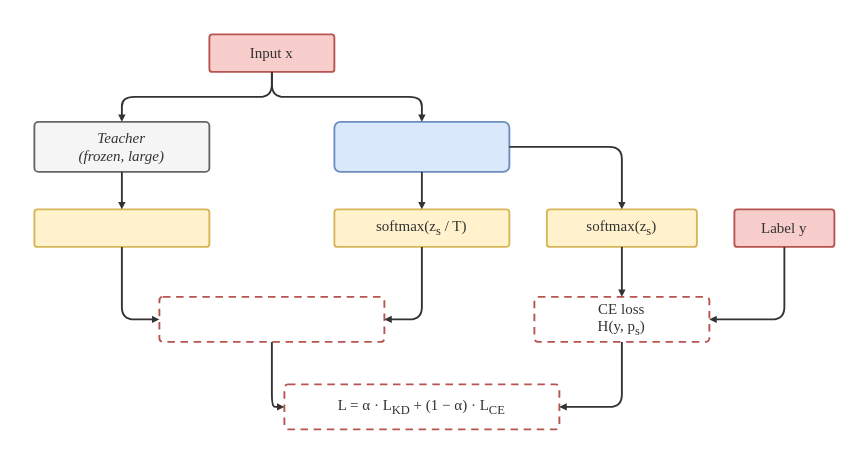
Some shapes in this 868 by 463 pixel diagram are drawn without their labels. The box of each missing label's shape, as (x1, y1, x2, y2) in pixels:
Distillation loss T² · KL(p t ‖ p s ): (158, 295, 385, 342)
softmax(z t / T): (33, 208, 210, 247)
Student (small): (333, 120, 510, 172)
